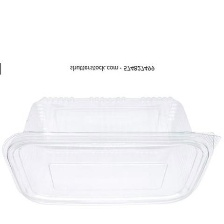plastic_box: (0, 86, 224, 212)
